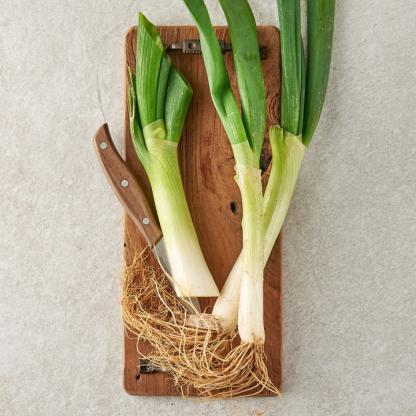green onion: (202, 0, 338, 383), (112, 7, 216, 305)
